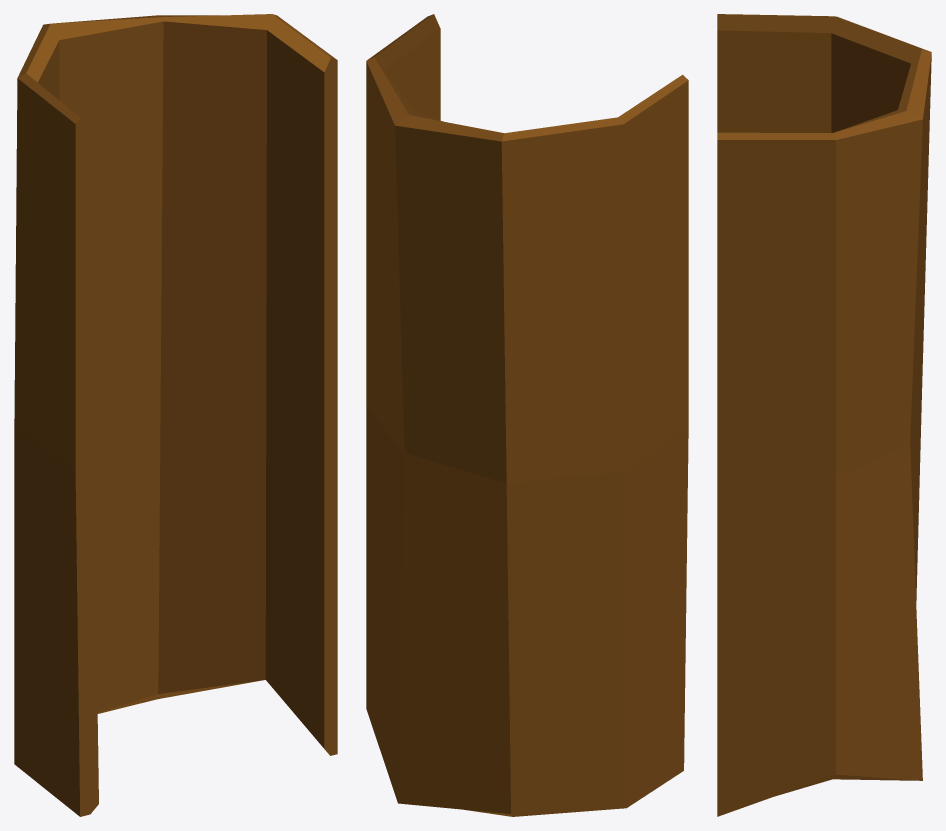
The model's file is Log_Hollow.fbx.
The picture shows the model from 3 angles, left to right: view 1: azimuth 30°, elevation 25°; view 2: azimuth 150°, elevation 25°; view 3: azimuth 270°, elevation 25°; orthographic projection. The views are drawn at different scales.
Parts seen in each view (by area): view 1: Log_Hollow; view 2: Log_Hollow; view 3: Log_Hollow.
Boxes of the visible parts, left/top/right/bottom form: Log_Hollow: left=14, top=14, right=337, bottom=816; Log_Hollow: left=366, top=14, right=688, bottom=816; Log_Hollow: left=717, top=14, right=931, bottom=816.
Bounding box in the file's own units: 185 × 471 × 134.
